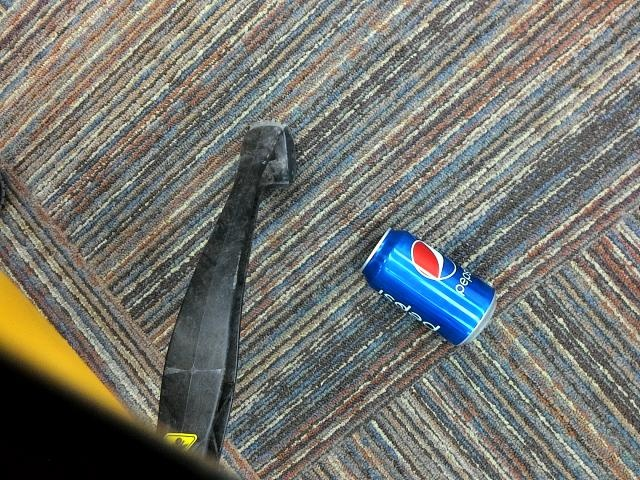can: (347, 219, 511, 357)
